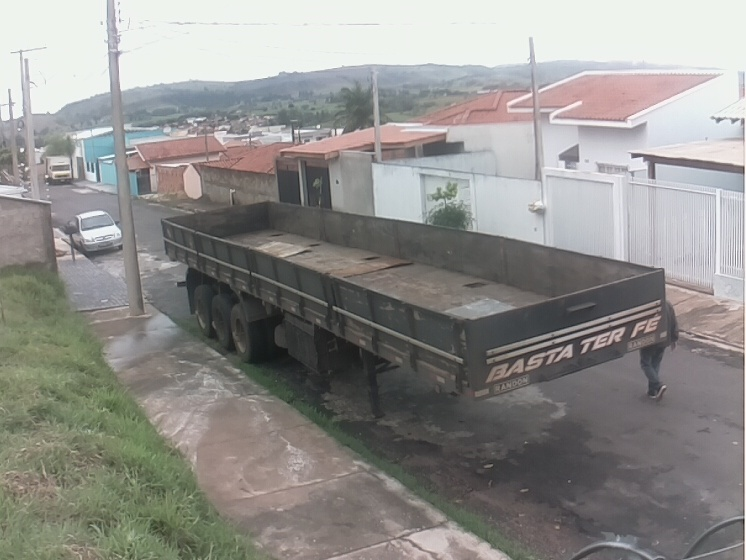person: (640, 298, 679, 401)
